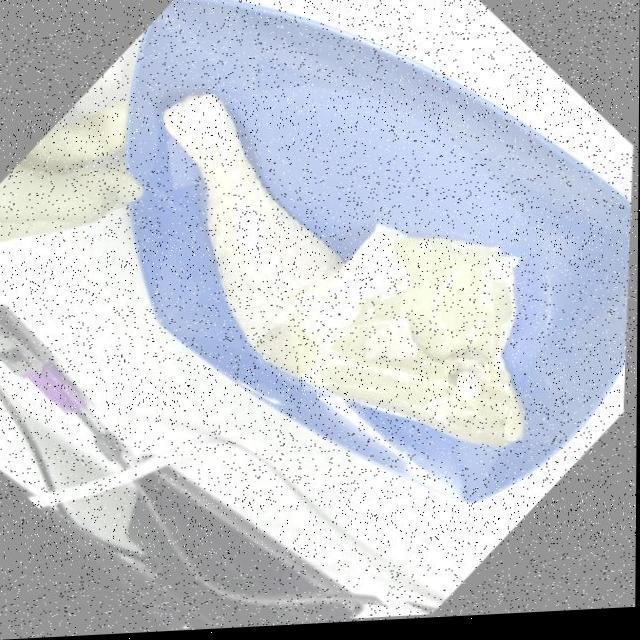quater: (162, 74, 523, 454)
